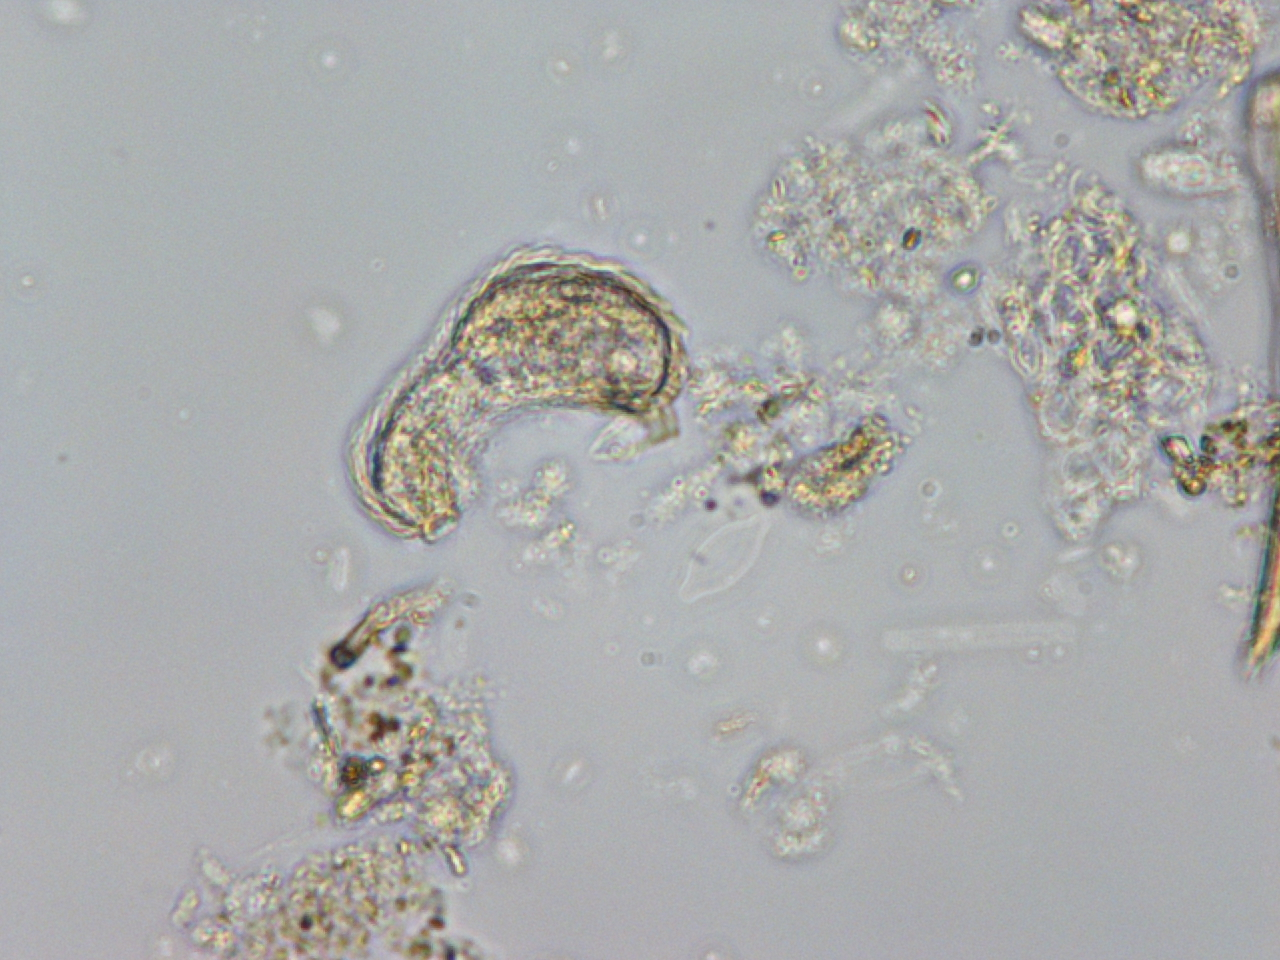gastrotricha: (343, 241, 696, 543)
